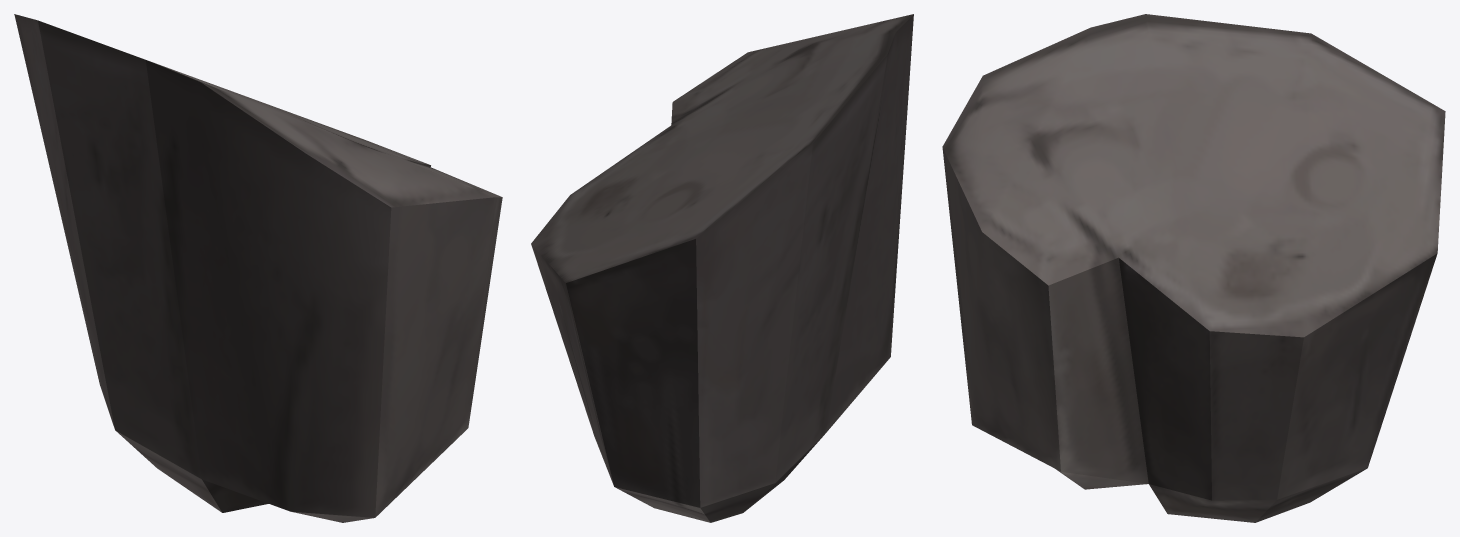
File: rock_small_02.fbx
The picture shows the model from 3 angles, left to right: view 1: azimuth 30°, elevation 25°; view 2: azimuth 150°, elevation 25°; view 3: azimuth 270°, elevation 25°; orthographic projection. The views are drawn at different scales.
Visible parts, largest first — view 1: rock_small_02; view 2: rock_small_02; view 3: rock_small_02.
Part boxes in pixels (x1,y1,x2,y2): rock_small_02: (14,14,502,522); rock_small_02: (531,14,913,522); rock_small_02: (942,14,1445,522).
Bounding box in the file's own units: 116 × 163 × 176.
1 material, 1 textured.
